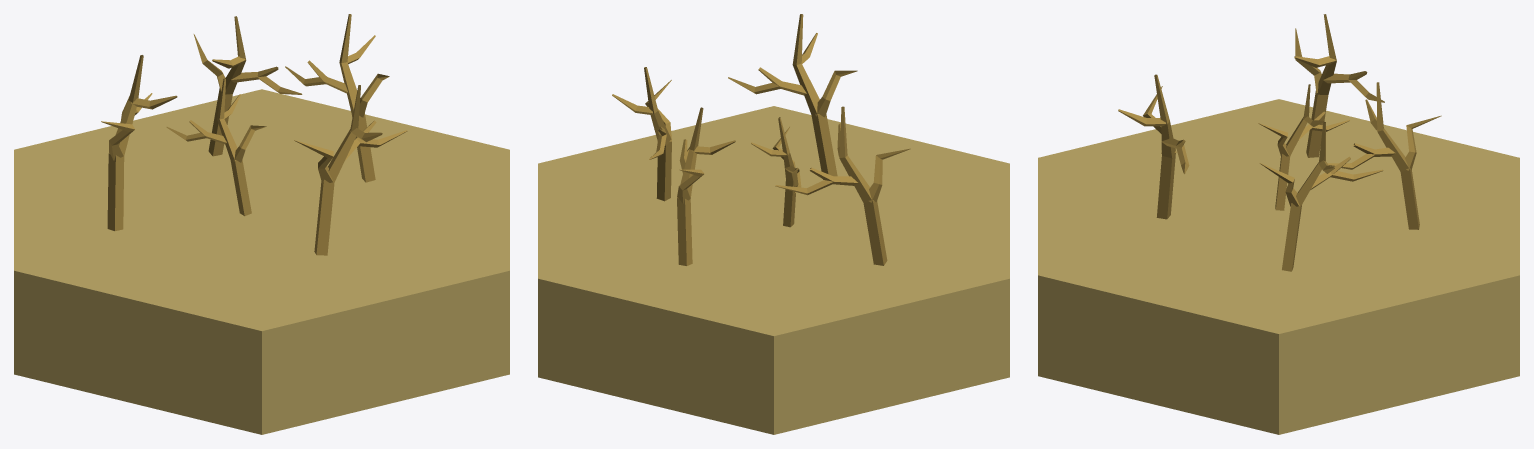
The model's file is Desertico.fbx.
3 renders of one model, left to right at view 1: azimuth 30°, elevation 25°; view 2: azimuth 150°, elevation 25°; view 3: azimuth 270°, elevation 25°, orthographic. The views are drawn at different scales.
Visible parts, largest first — view 1: Desertico; view 2: Desertico; view 3: Desertico.
Boxes of the visible parts, x1,y1,x2,y2 form: Desertico: [14, 14, 509, 434]; Desertico: [538, 14, 1009, 434]; Desertico: [1038, 14, 1519, 434].
Bounding box in the file's own units: 200 × 103 × 173.
